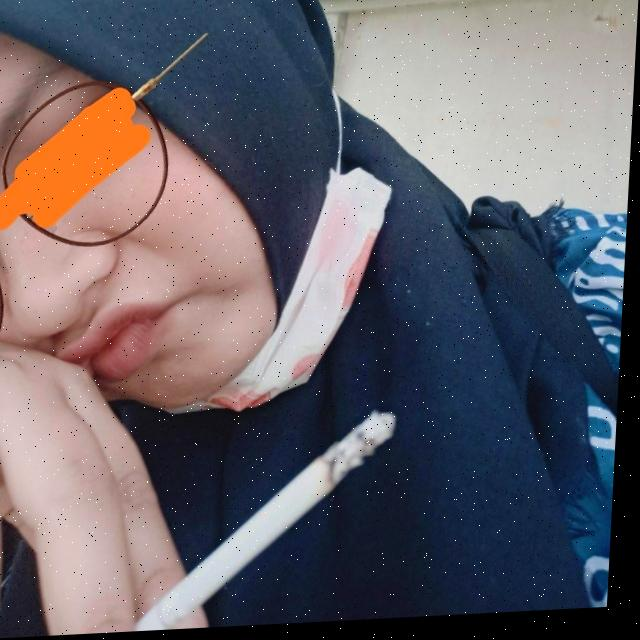cigarette: (139, 413, 401, 633)
